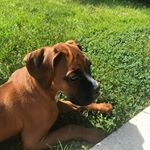puppy: (1, 35, 117, 148)
